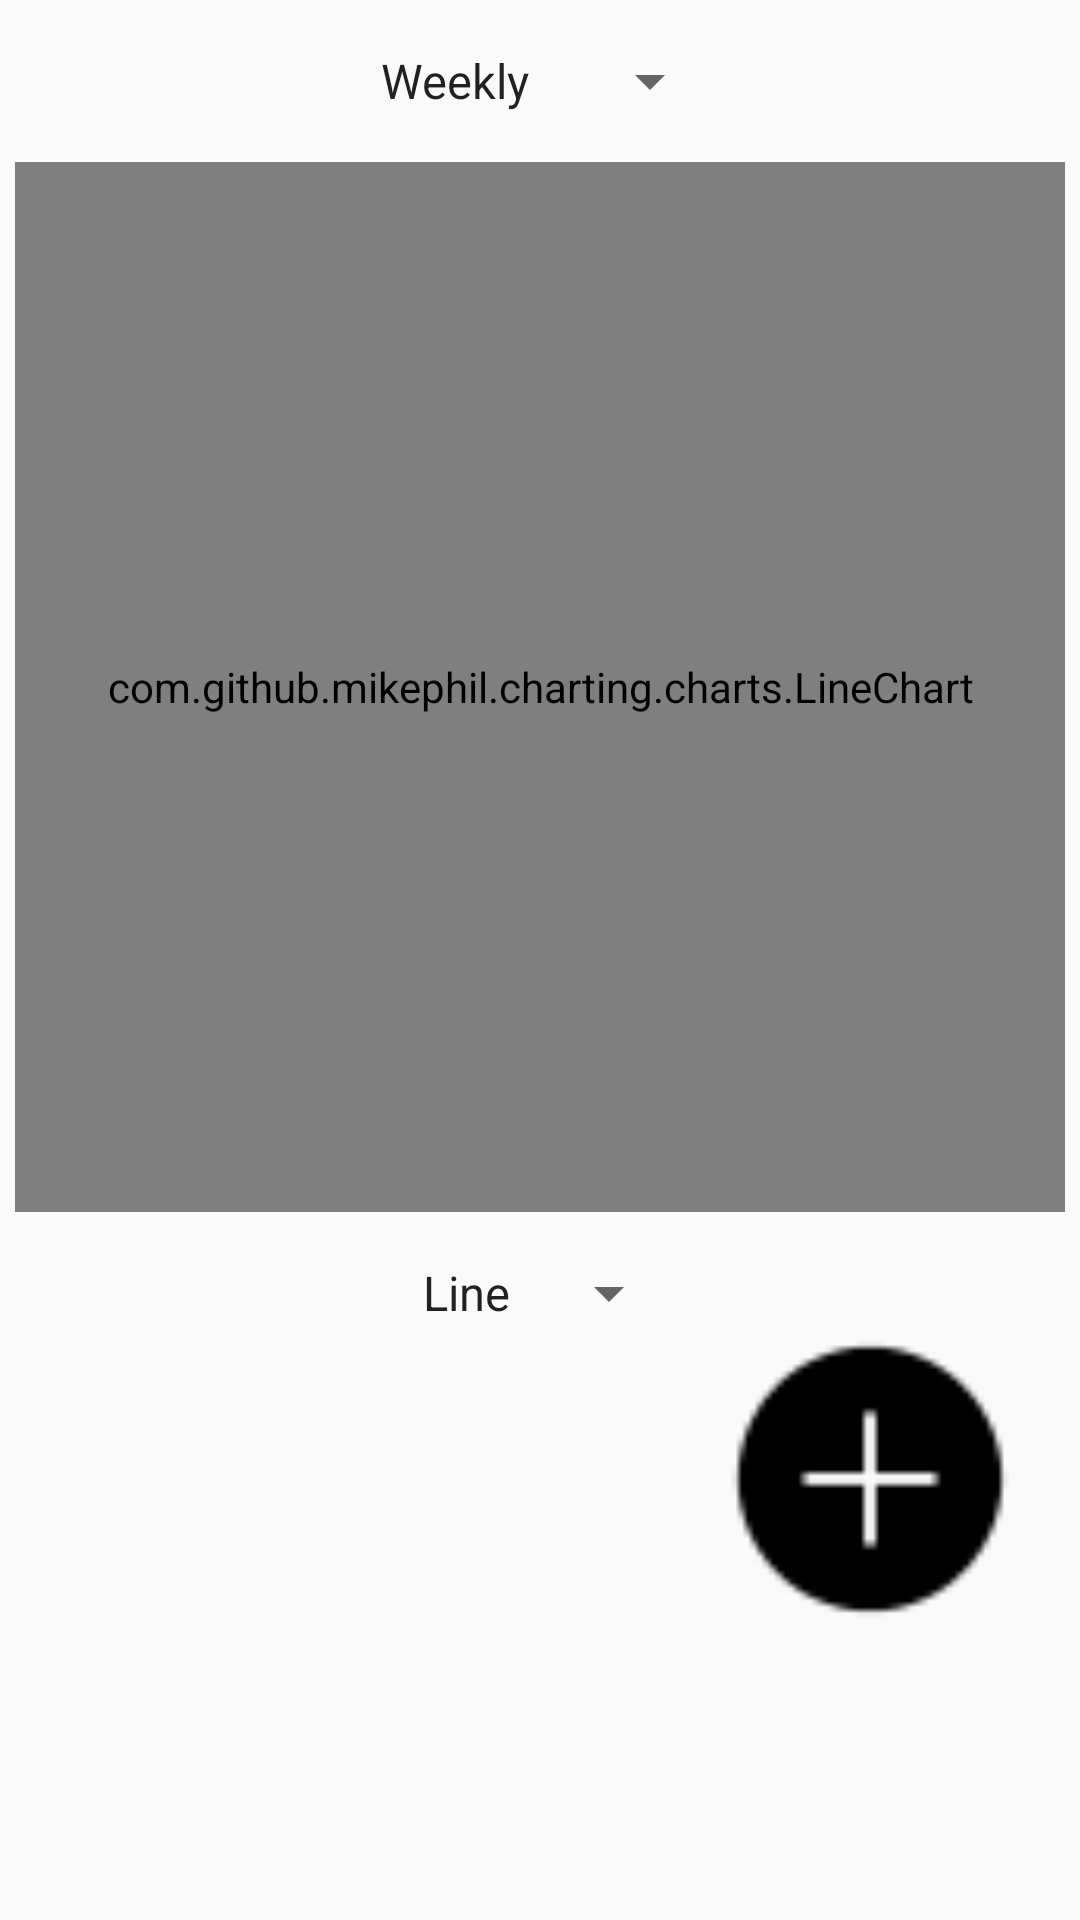

Screen size 1080×1920. Icon name, then its center in pixels as (x,y):
add activity: (869,1479)
